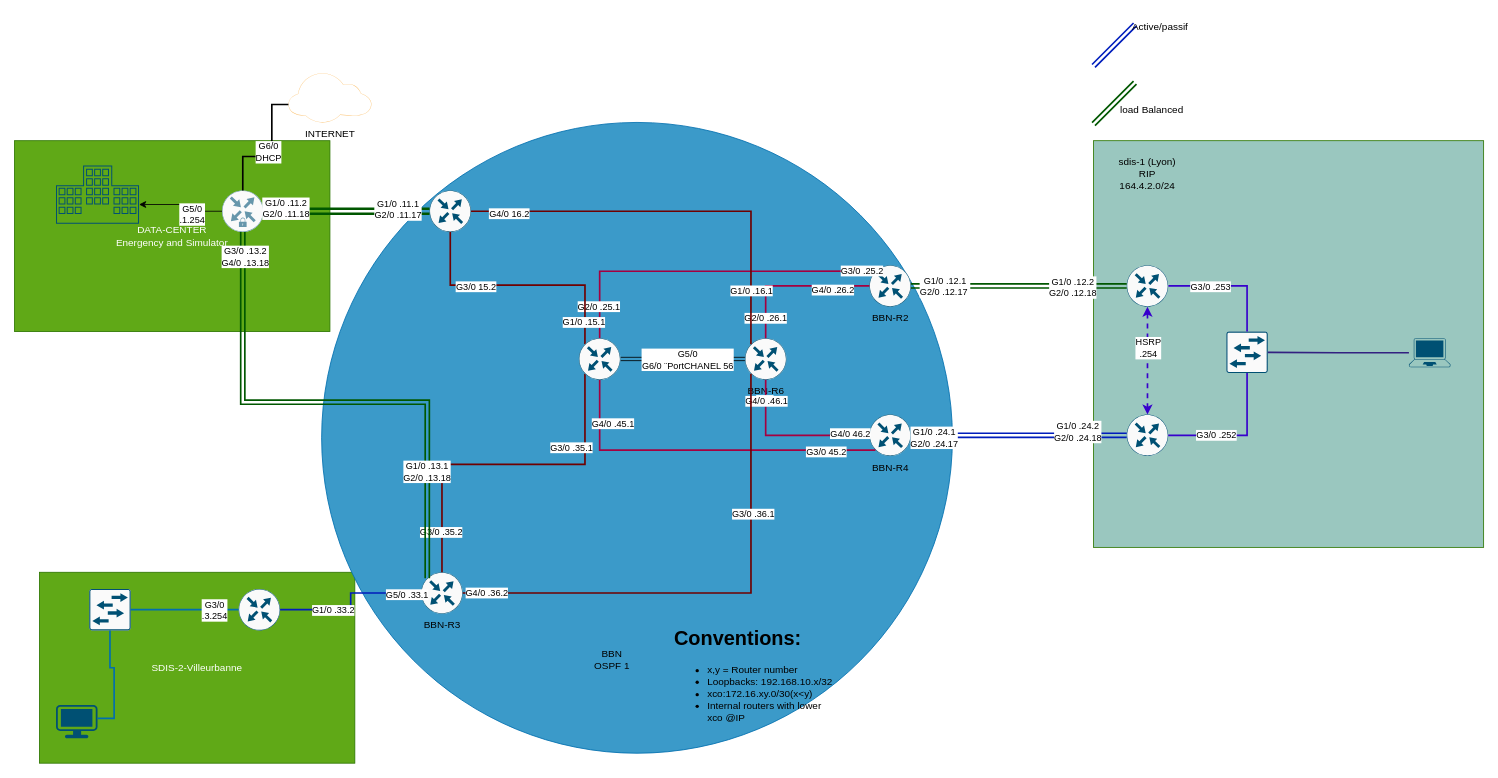
Some shapes in this 1498 by 778 pixel diagram are drawn without their labels. The shapes that lost their labels are listed below. From the top down, each one's centre as x and y in pixels, then its label:
point (450, 211): BBN-R1
point (1147, 285): SDIS-R1
point (599, 358): BBN-R5
point (1147, 435): SDIS-R2
